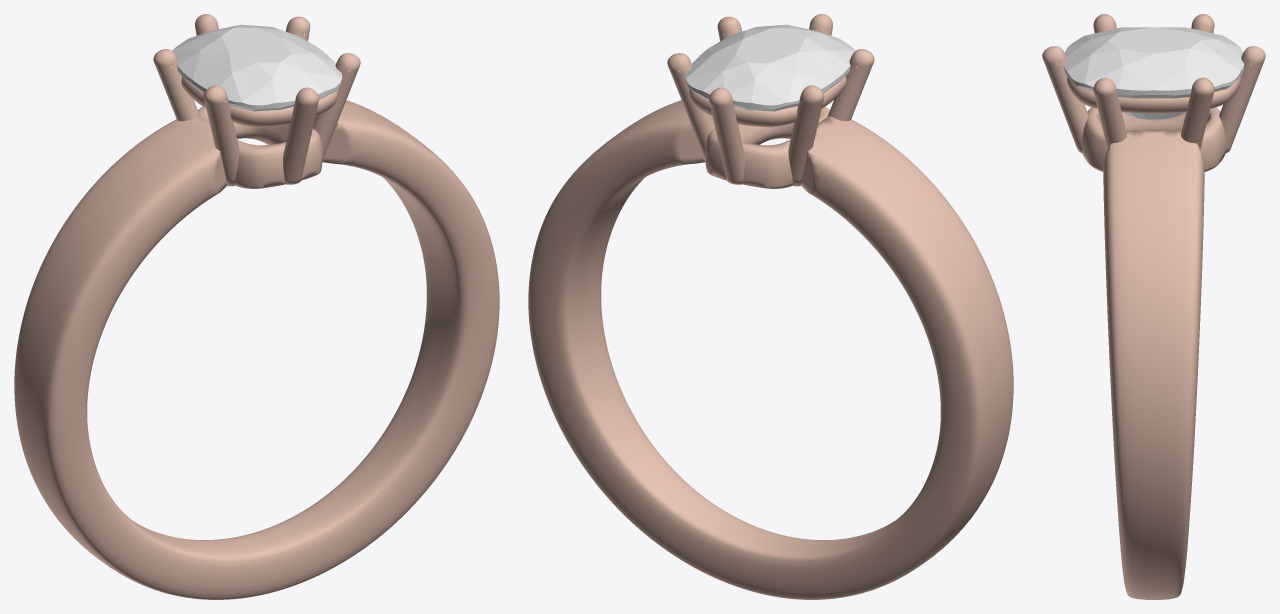
Rendered from diamond-cushion-rosegold-6prong-straighttaperedband-nosidestones.glb.
3 views of the same model, side by side, from view 1: azimuth 30°, elevation 25°; view 2: azimuth 150°, elevation 25°; view 3: azimuth 270°, elevation 25° (orthographic).
Visible parts, largest first — view 1: metal.002, stone; view 2: metal.002, stone; view 3: metal.002, stone.
Part boxes in pixels (bbox=[...]): metal.002: bbox=[14, 14, 499, 599]; stone: bbox=[172, 24, 342, 127]; metal.002: bbox=[528, 14, 1013, 599]; stone: bbox=[685, 24, 855, 127]; metal.002: bbox=[1042, 14, 1265, 599]; stone: bbox=[1063, 27, 1244, 120].
Size of the model in its own units: 20.48 by 23.24 by 8.8.
